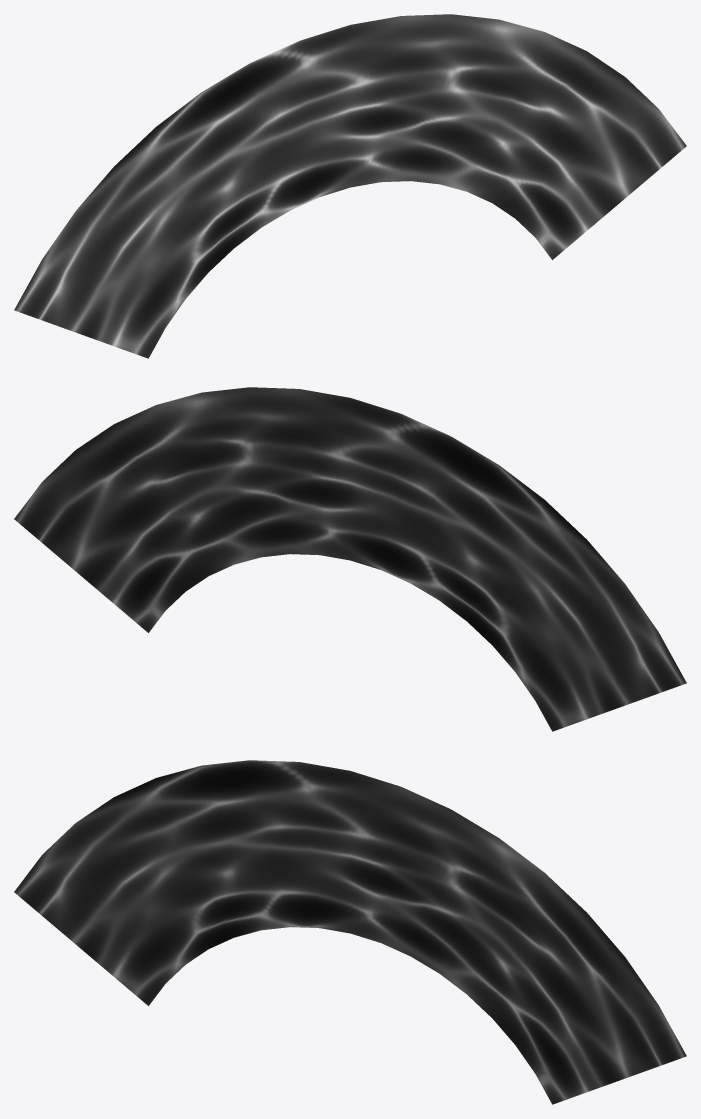
The model's file is eff_Arc02.fbx.
The picture shows the model from 3 angles, top to bottom: view 1: azimuth 30°, elevation 25°; view 2: azimuth 150°, elevation 25°; view 3: azimuth 330°, elevation 25°; orthographic projection.
Parts seen in each view (by area): view 1: eff_Arc02_msh; view 2: eff_Arc02_msh; view 3: eff_Arc02_msh.
Boxes of the visible parts, x1=… form: eff_Arc02_msh: x1=14, y1=14, x2=686, y2=358; eff_Arc02_msh: x1=14, y1=387, x2=686, y2=731; eff_Arc02_msh: x1=14, y1=760, x2=686, y2=1104.
Size of the model in its own units: 8.66 by 3.5 by 0.
